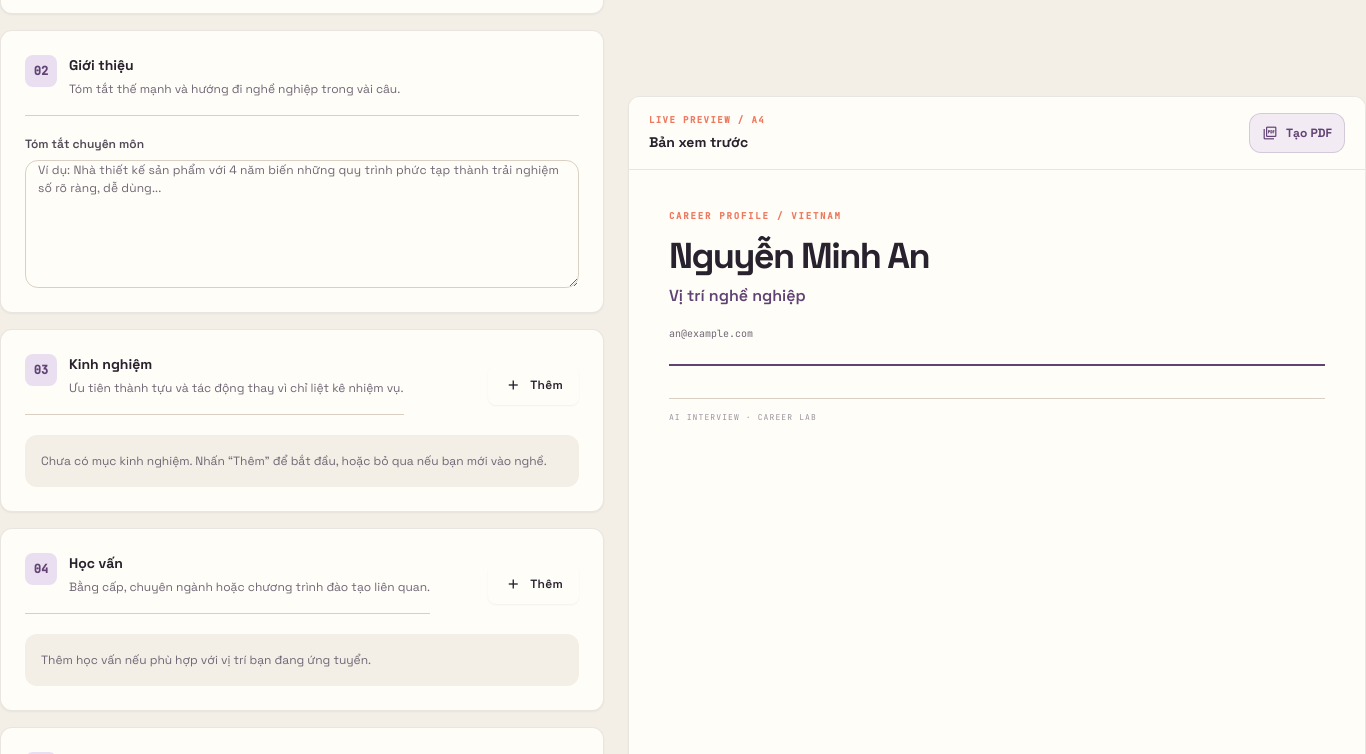
it: CvBuilderPage › adds experience entries and reflects them in the preview
(page scrolled)
Click the button "Thêm" in the row of "03" at {"x": 534, "y": 384}, box [488,364,579,404]
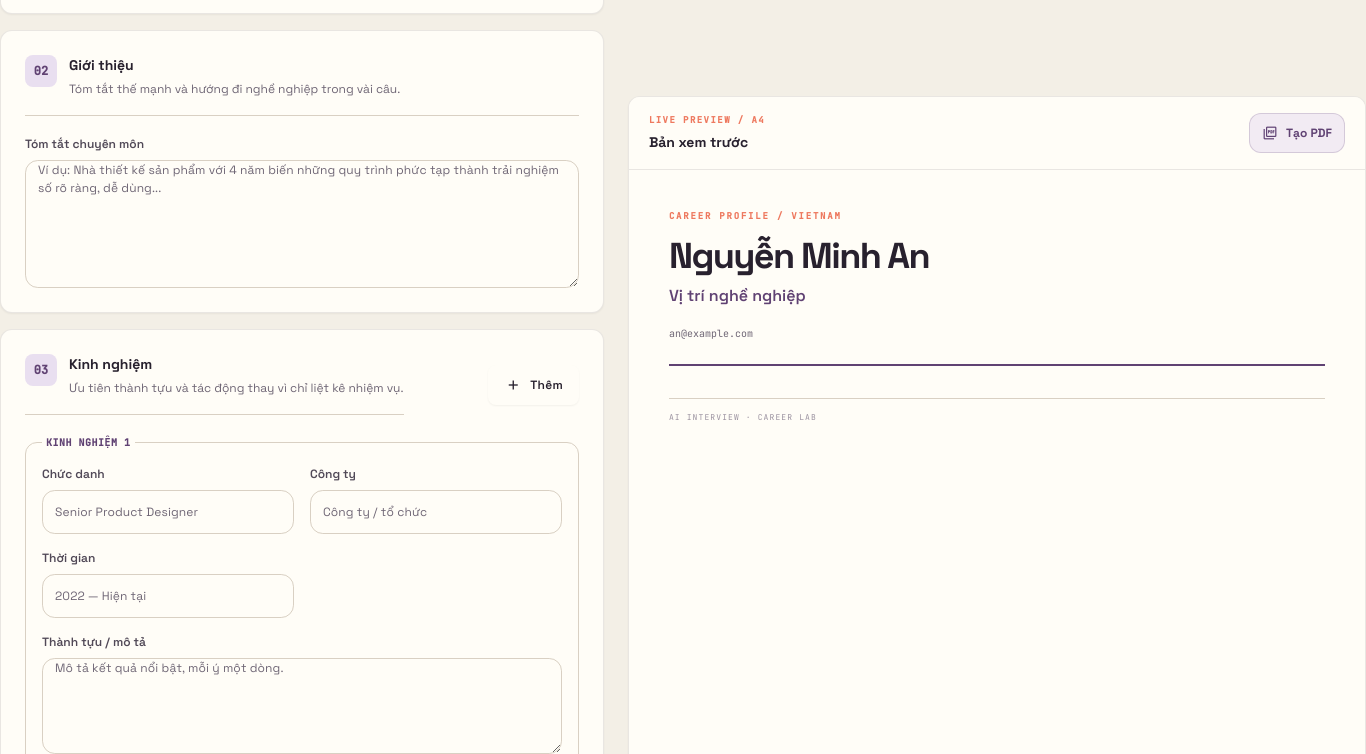
Type "UX Designer" into the field labelled "Chức danh" at {"x": 168, "y": 512}, box [42,490,294,534]
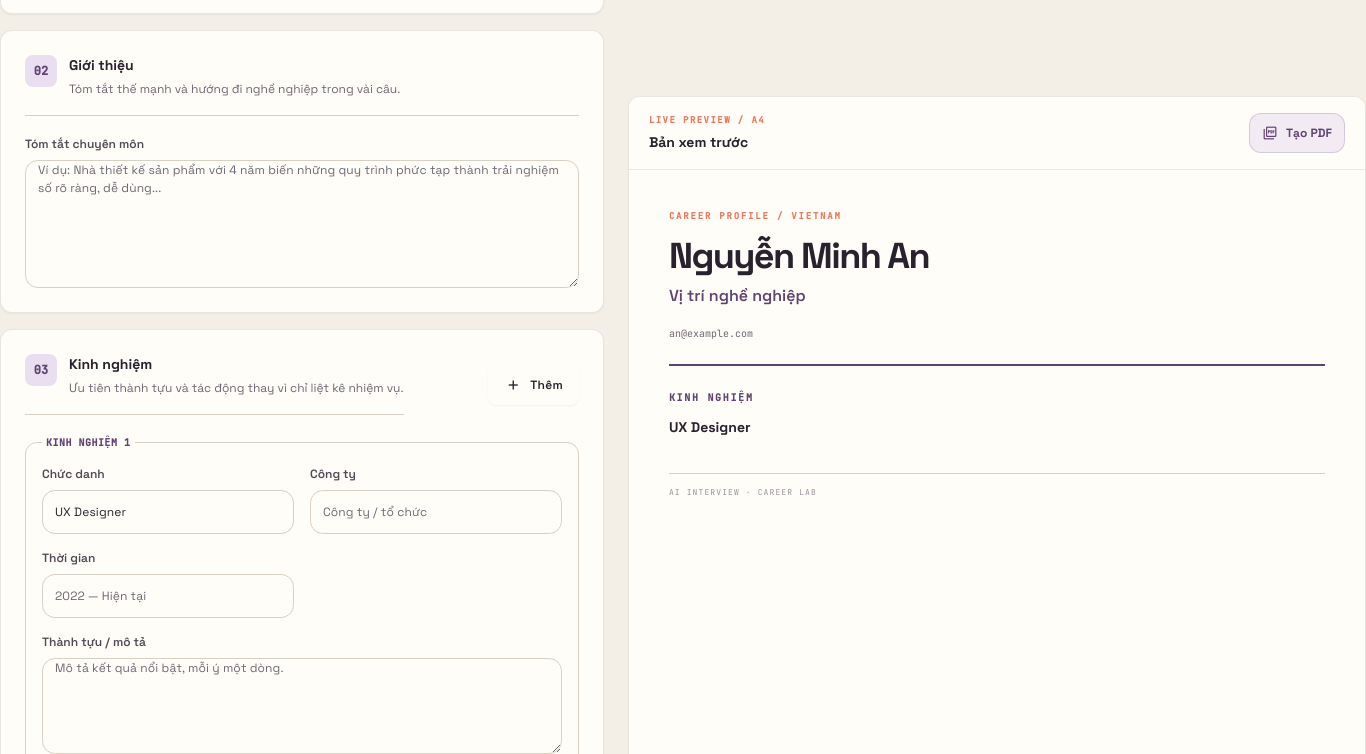
Type "Studio North" into the field labelled "Công ty" at {"x": 436, "y": 512}, box [310,490,562,534]
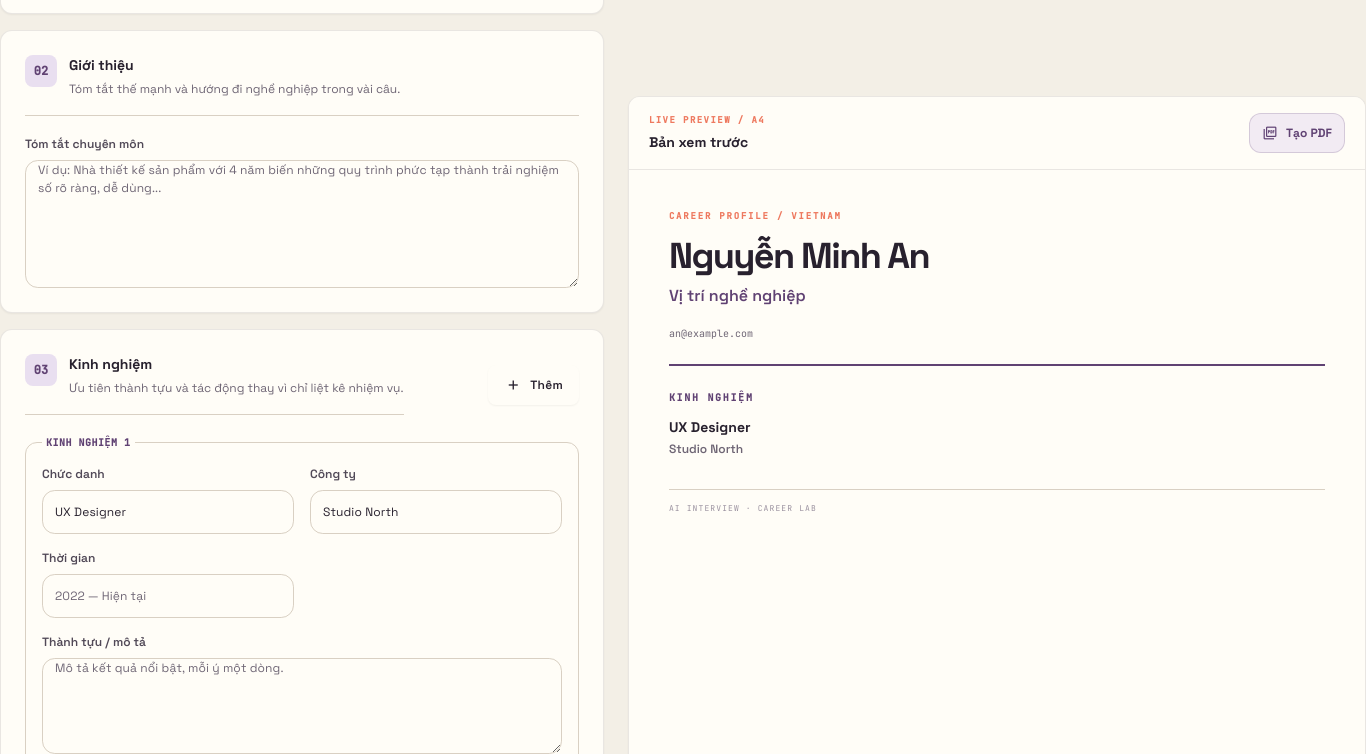
Expected: the heading "UX Designer" is shown, [669,418,750,436]
Expected: the text "Studio North" is shown, [669,440,743,456]
